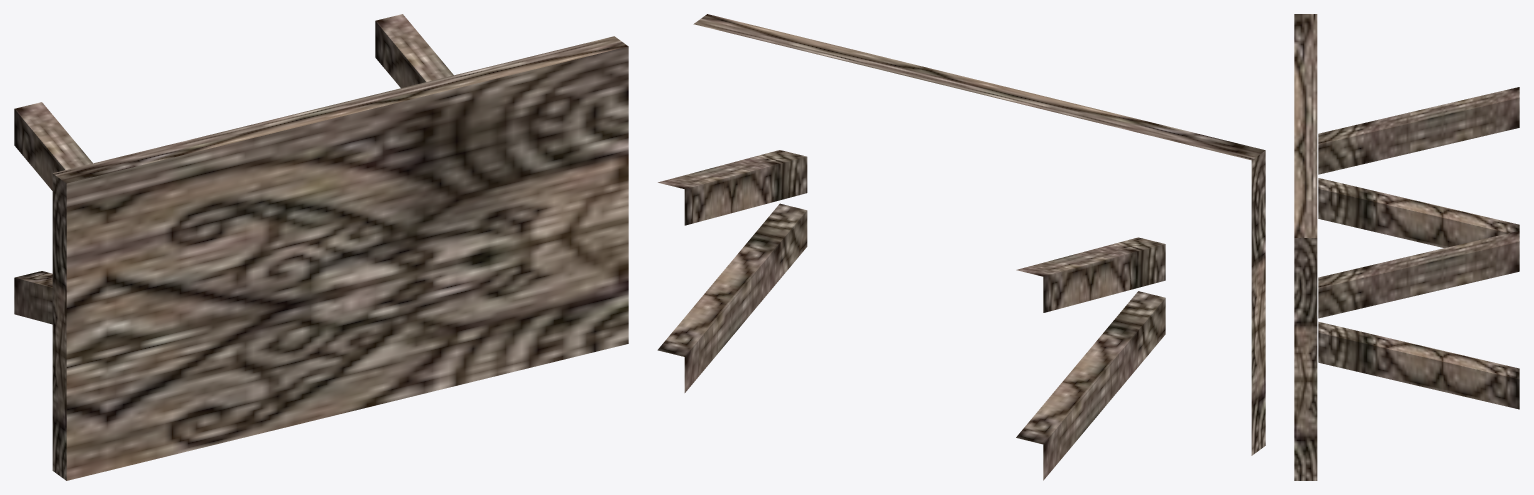
The model's file is Furniture03.glb.
The picture shows the model from 3 angles, left to right: view 1: azimuth 30°, elevation 25°; view 2: azimuth 150°, elevation 25°; view 3: azimuth 270°, elevation 25°; orthographic projection. The views are drawn at different scales.
Parts seen in each view (by area): view 1: model_Furniture03; view 2: model_Furniture03; view 3: model_Furniture03.
Boxes of the visible parts, x1,y1,x2,y2 form: model_Furniture03: (14, 14, 628, 480); model_Furniture03: (657, 14, 1265, 480); model_Furniture03: (1294, 14, 1519, 480).
Size of the model in its own units: 2.03 by 1.03 by 0.8658.
1 material, 1 textured.
